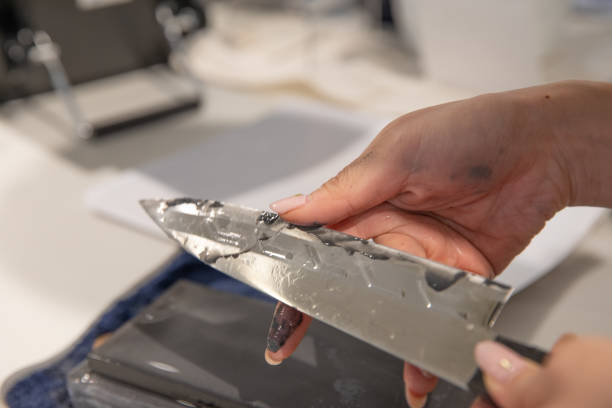knife: (138, 197, 549, 396)
